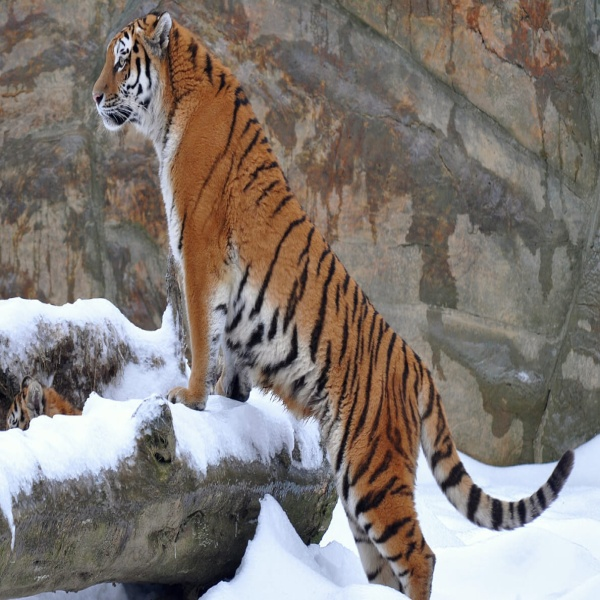Tiger: (85, 2, 577, 599)
